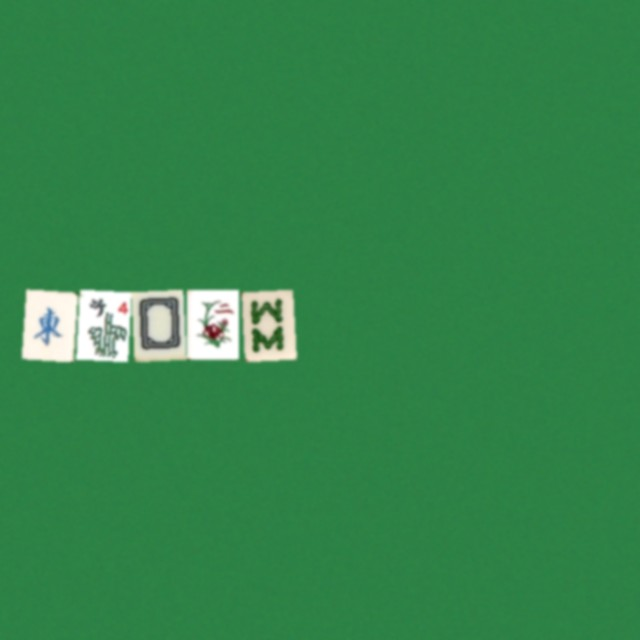tile: (21, 289, 73, 359), (76, 289, 128, 359), (131, 289, 183, 359), (186, 289, 238, 359), (241, 289, 293, 359)
